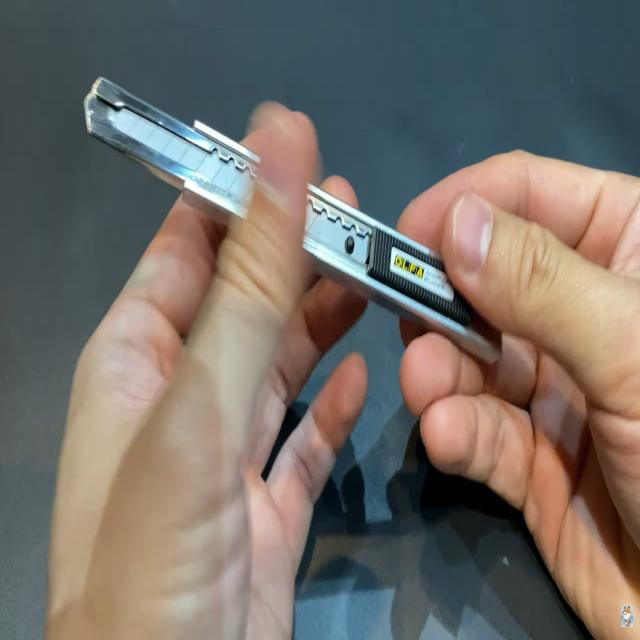cutter: (28, 50, 640, 634)
